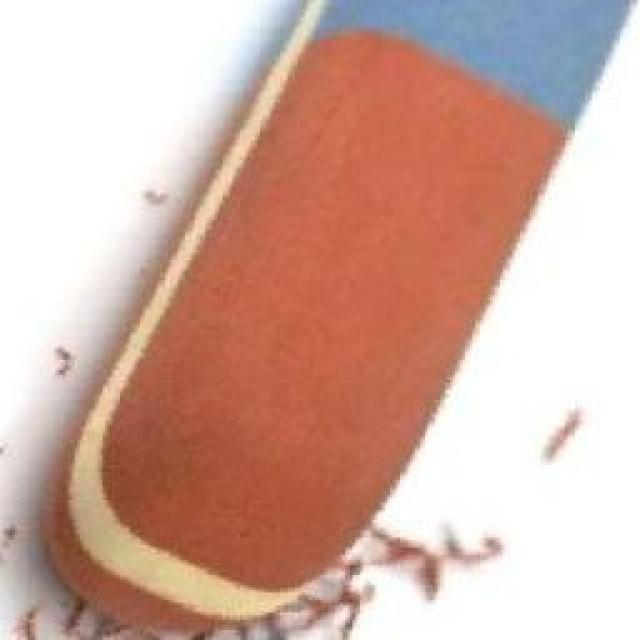Silgi: (42, 0, 638, 629)
